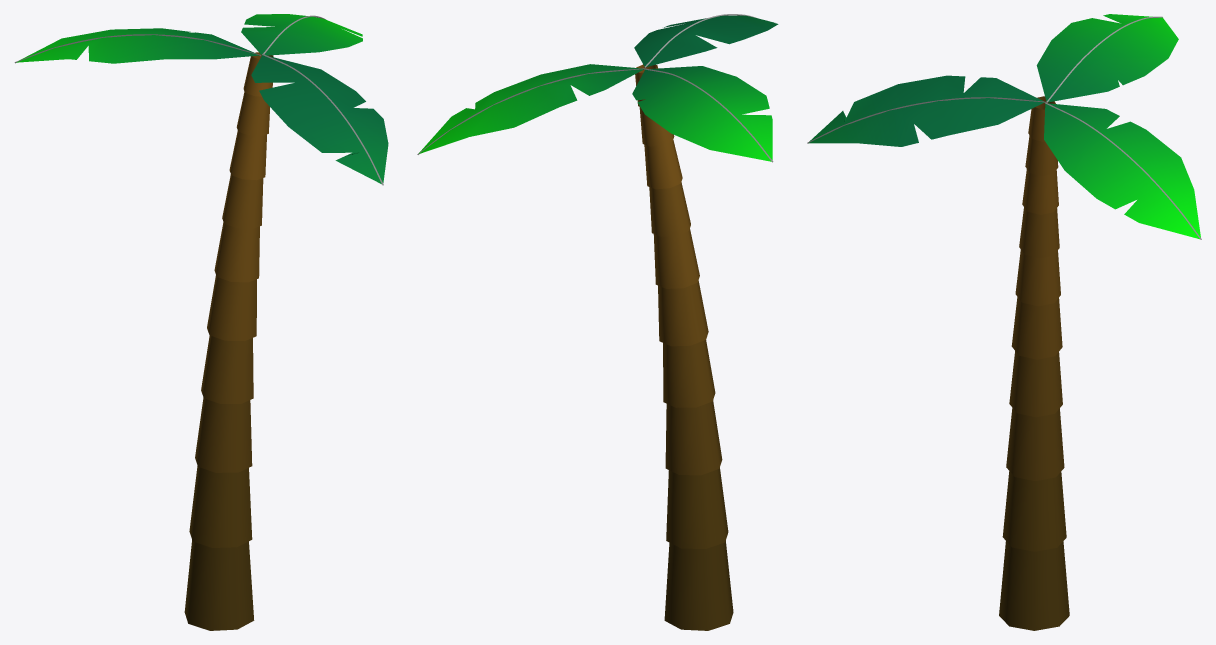
File: PalmTree310.FBX
3 renders of one model, left to right at view 1: azimuth 30°, elevation 25°; view 2: azimuth 150°, elevation 25°; view 3: azimuth 270°, elevation 25°, orthographic.
Visible parts, largest first — view 1: Cylinder003; view 2: Cylinder003; view 3: Cylinder003.
Part boxes in pixels (x1,y1,x2,y2): Cylinder003: [16, 14, 388, 630]; Cylinder003: [419, 15, 778, 630]; Cylinder003: [808, 14, 1200, 630].
Bounding box in the file's own units: 475 × 758 × 486.
Materials: 10 (9 with a texture image).
